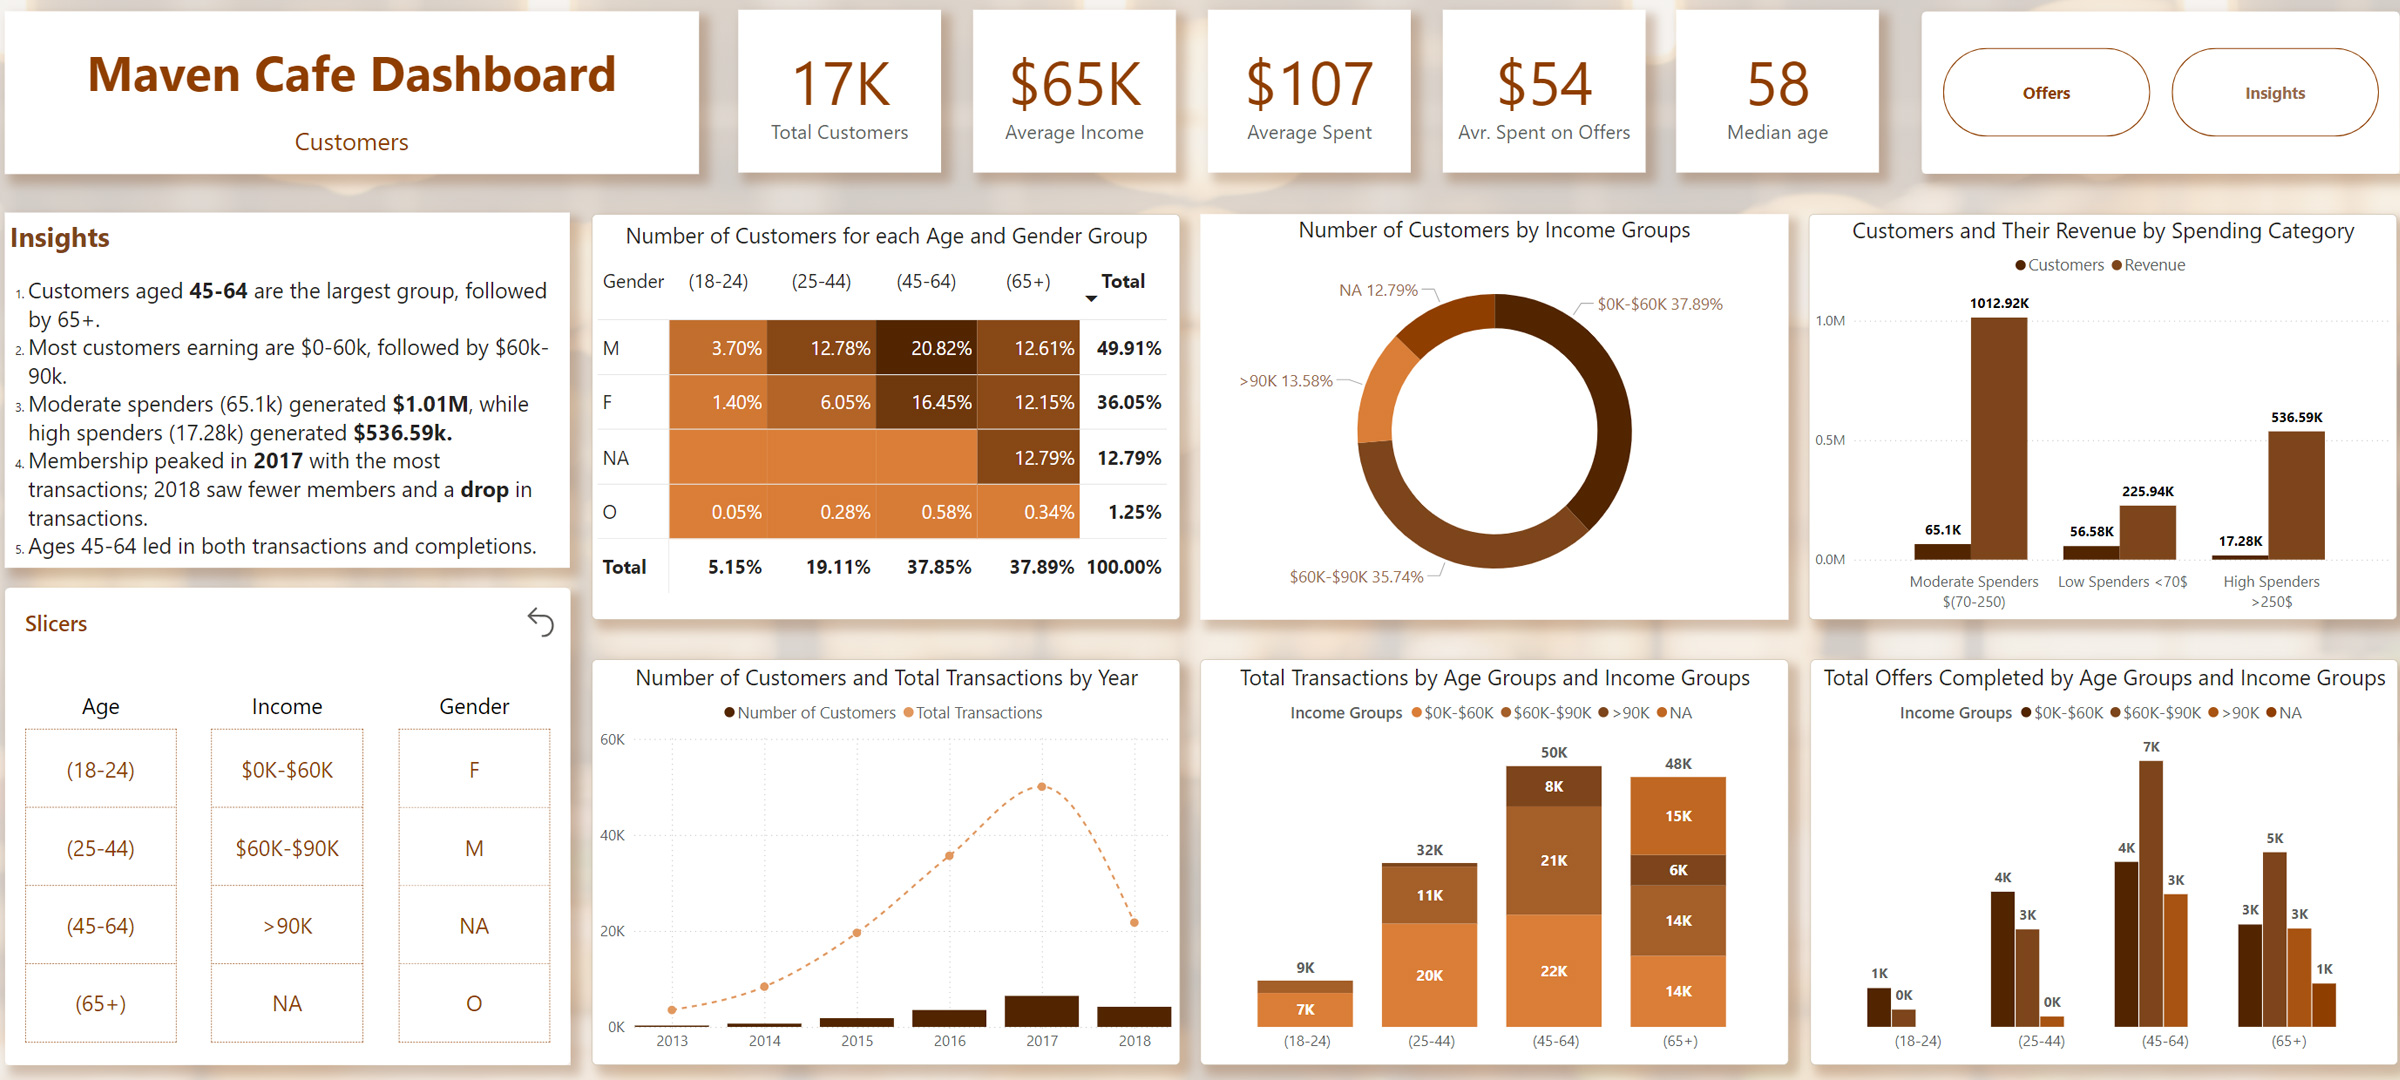

What the dashboard file says about the page in this screenshot:
{"tool":"powerbi","page":{"name":"Customers","canvas":[1920,1080],"ordinal":0},"visuals":[{"type":"card","fields":{"Values":["customers.Total_Customers"]},"box":[637.3,38.8,199.9,159.9],"z":0},{"type":"card","fields":{"Values":["Avg(customers.income)"]},"box":[861.5,38.7,200,160],"z":1000},{"type":"card","fields":{"Values":["transactions.AverageCustomerSpend"]},"box":[1085.8,38.7,200,160],"z":2000},{"type":"card","fields":{"Values":["events.AverageCustomerSpendonOffer"]},"box":[1310.1,38.7,200,160],"z":3000},{"type":"donutChart","fields":{"Category":["customers.gender_edited"],"Y":["CountNonNull(customers.customer_id)"]},"box":[23.9,226.1,440,399.9],"z":4000},{"type":"donutChart","fields":{"Category":["customers.income_groups"],"Y":["CountNonNull(customers.customer_id)"]},"box":[502.9,226.1,440,400],"z":5000},{"type":"columnChart","fields":{"Category":["customers.age_groups"],"Y":["transactions.TransactionCount"],"Series":["customers.income_groups"]},"box":[837.3,647,500,423],"z":6000},{"type":"lineClusteredColumnComboChart","fields":{"Category":["customers.became_memeber_on_years"],"Y2":["transactions.TransactionCount"],"Y":["CountNonNull(customers.customer_id)"]},"box":[23.9,647,750,423],"z":7000},{"type":"columnChart","fields":{"Category":["transactions.SpendCategory"],"Y":["CountNonNull(transactions.customer_id)"]},"box":[1460.7,226.1,440,399.9],"z":8000},{"type":"donutChart","fields":{"Category":["customers.Age_groups"],"Y":["CountNonNull(customers.customer_id)"]},"box":[981.8,226.1,440,399.9],"z":9000},{"type":"columnChart","fields":{"Category":["customers.age_groups"],"Y":["events.Total_Offers_Completed"],"Series":["customers.income_groups"]},"box":[1400.7,647,500,423],"z":10000},{"type":"card","fields":{"Values":["Median(customers.age)"]},"box":[1534.4,38.8,199.9,159.9],"z":11000},{"type":"textbox","box":[23.7,78.7,588.5,80],"z":12000},{"type":"pageNavigator","box":[1734.4,92.5,166.2,52.5],"z":12001}]}

Visuals, with their boxes on the page's 1920x1080 design canvas (x1, y1, x2, y2). These are canvas units, not pixel positions in the 2400x1080 screenshot, which may show the page scaled, cropped or inside an application window:
card - customers.Total_Customers: (x1=637, y1=39, x2=837, y2=199)
card - Avg(customers.income): (x1=862, y1=39, x2=1062, y2=199)
card - transactions.AverageCustomerSpend: (x1=1086, y1=39, x2=1286, y2=199)
card - events.AverageCustomerSpendonOffer: (x1=1310, y1=39, x2=1510, y2=199)
donutChart - customers.gender_edited x CountNonNull(customers.customer_id): (x1=24, y1=226, x2=464, y2=626)
donutChart - customers.income_groups x CountNonNull(customers.customer_id): (x1=503, y1=226, x2=943, y2=626)
columnChart - customers.age_groups x transactions.TransactionCount: (x1=837, y1=647, x2=1337, y2=1070)
lineClusteredColumnComboChart - customers.became_memeber_on_years x transactions.TransactionCount: (x1=24, y1=647, x2=774, y2=1070)
columnChart - transactions.SpendCategory x CountNonNull(transactions.customer_id): (x1=1461, y1=226, x2=1901, y2=626)
donutChart - customers.Age_groups x CountNonNull(customers.customer_id): (x1=982, y1=226, x2=1422, y2=626)
columnChart - customers.age_groups x events.Total_Offers_Completed: (x1=1401, y1=647, x2=1901, y2=1070)
card - Median(customers.age): (x1=1534, y1=39, x2=1734, y2=199)
textbox: (x1=24, y1=79, x2=612, y2=159)
pageNavigator: (x1=1734, y1=92, x2=1901, y2=145)
